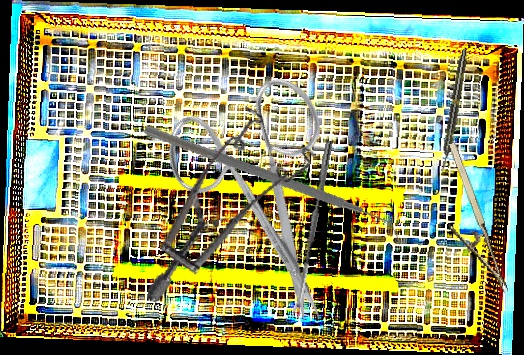Chopper: (142, 83, 403, 290)
Handpiece: (438, 48, 470, 171)
Iris Scissors: (120, 41, 421, 333)
Needle Holder: (424, 141, 509, 303)
Speculum: (146, 94, 323, 328)
Surgical Spoon: (290, 139, 334, 319)
